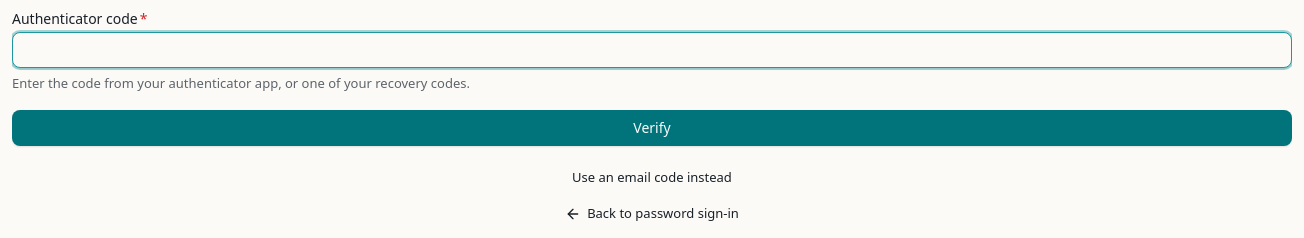
Test: SecondFactorForm › keeps letters and hyphens for recovery codes
Step 1. Type "ab12-CD 34!" into the field labelled "Authenticator code*" → x=652, y=50, box [12,32,1292,68]
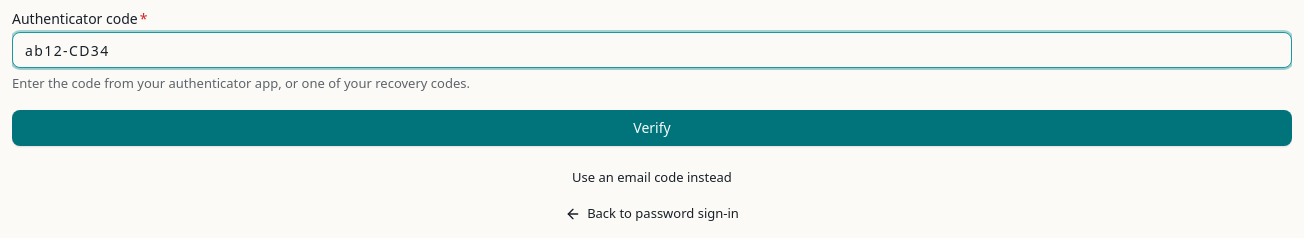
Check: the field labelled "Authenticator code*" holds "ab12-CD34", box [12,32,1292,68]
